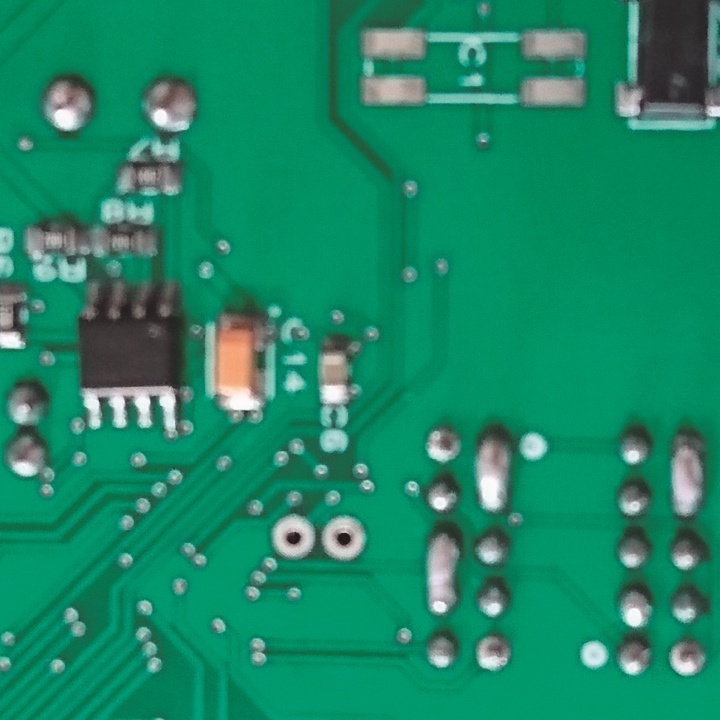F: (319, 512, 367, 564), (270, 511, 316, 561), (667, 639, 707, 681), (473, 632, 510, 672), (424, 424, 460, 465)
P: (470, 430, 513, 515), (667, 425, 705, 520), (425, 529, 464, 619)
